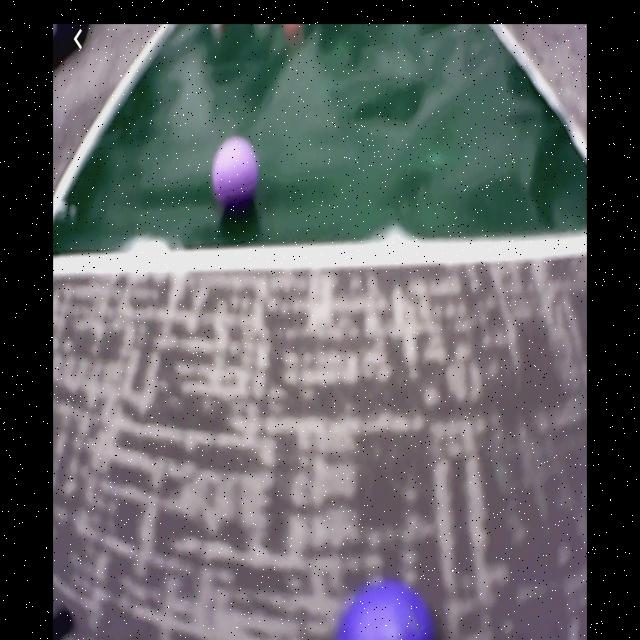ball: (334, 576, 428, 640), (208, 137, 258, 204)
